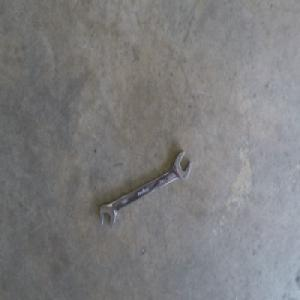Wrench: (99, 150, 191, 228)
